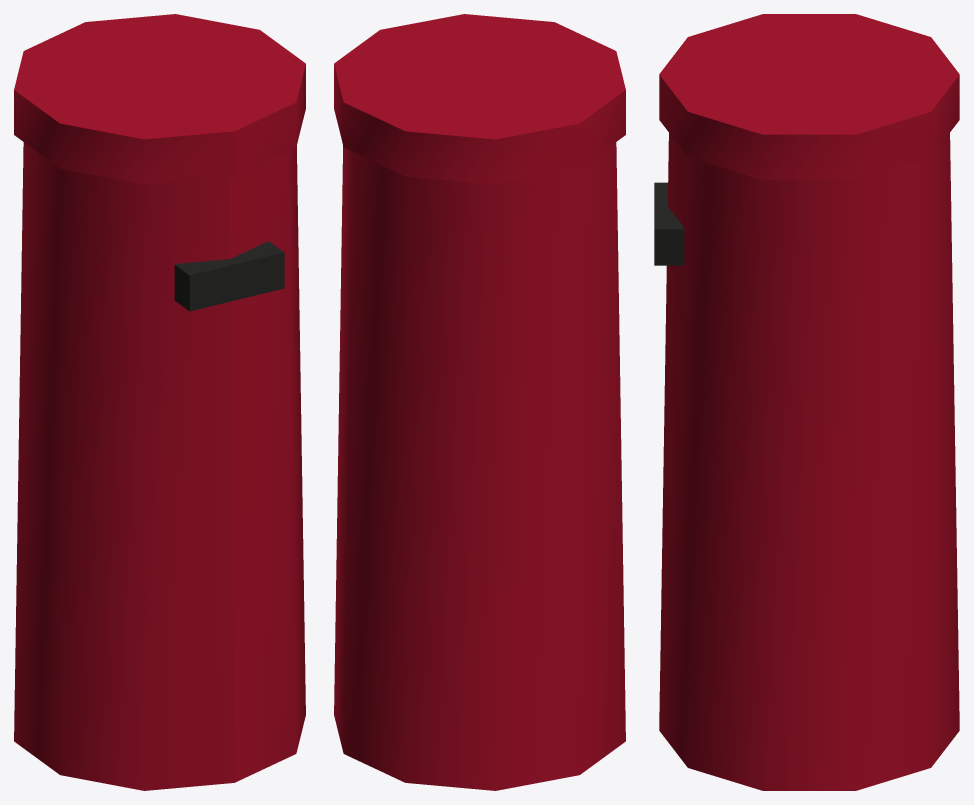
Rendered from furniture-postbox.glb.
The picture shows the model from 3 angles, left to right: view 1: azimuth 30°, elevation 25°; view 2: azimuth 150°, elevation 25°; view 3: azimuth 270°, elevation 25°; orthographic projection.
Bounding box in the file's own units: 0.5706 × 1.45 × 0.61.
